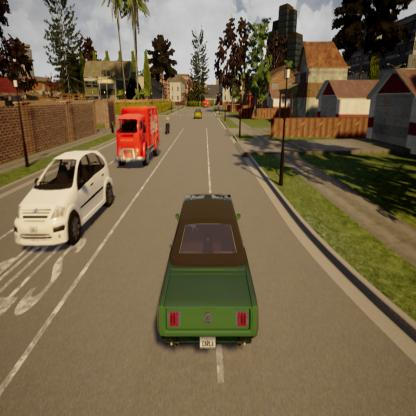Cars: (147, 185, 262, 358), (10, 137, 121, 256), (112, 100, 165, 170), (191, 108, 202, 122)
